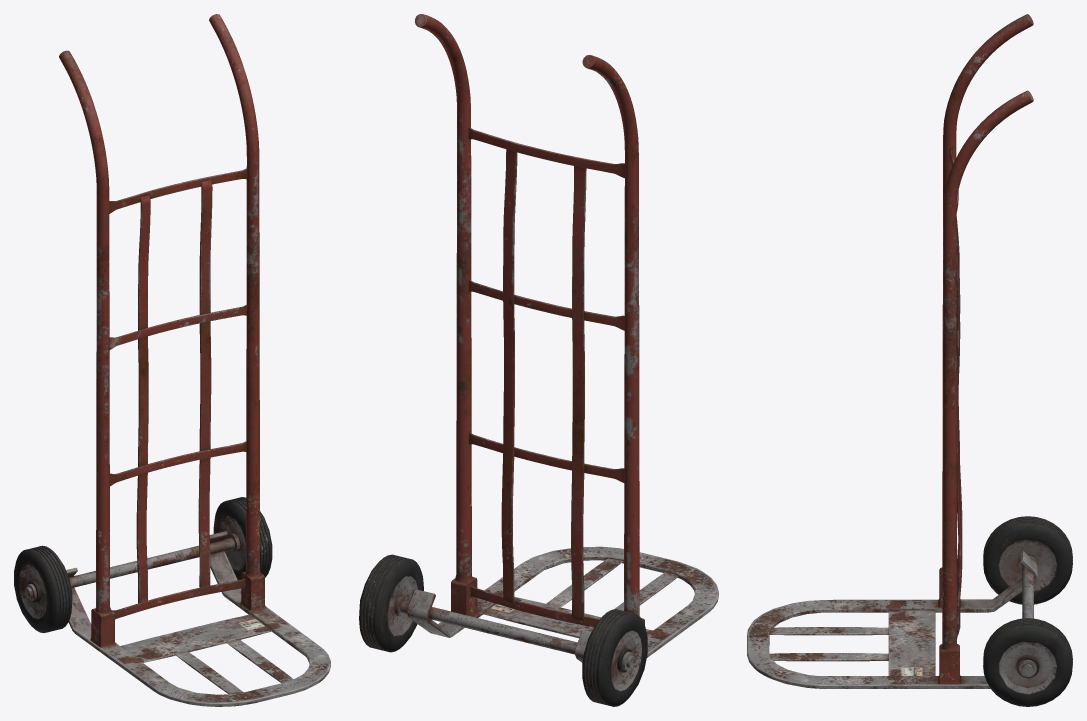
File: hand-truck.glb
The picture shows the model from 3 angles, left to right: view 1: azimuth 30°, elevation 25°; view 2: azimuth 150°, elevation 25°; view 3: azimuth 270°, elevation 25°; orthographic projection. The views are drawn at different scales.
Visible parts, largest first — view 1: hand_truck; view 2: hand_truck; view 3: hand_truck.
Boxes of the visible parts, left/top/right/bottom form: hand_truck: left=14, top=14, right=330, bottom=706; hand_truck: left=359, top=14, right=718, bottom=706; hand_truck: left=747, top=14, right=1072, bottom=706.
Size of the model in its own units: 0.5932 by 1.4 by 0.6923.
1 material, 1 textured.
